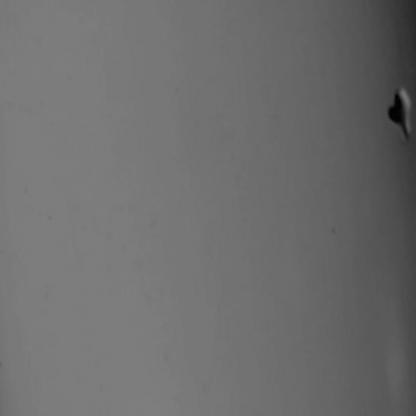kongdong: (384, 84, 416, 144)
